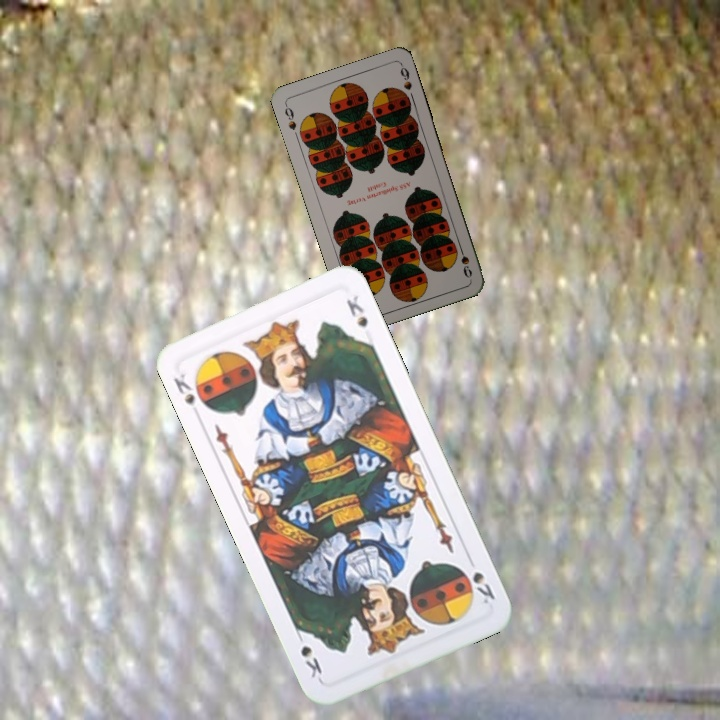S9: (455, 241, 475, 281), (281, 100, 299, 133)
SK: (463, 552, 498, 607), (169, 369, 198, 408)
